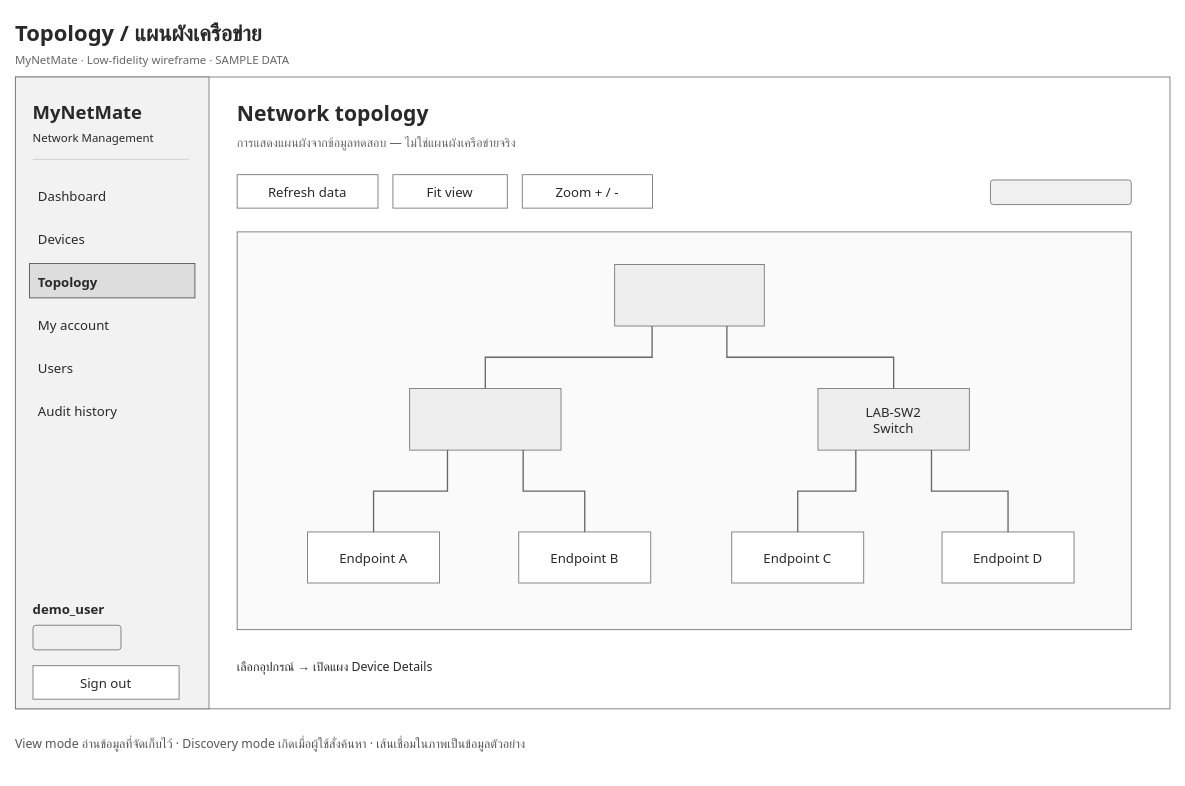
The diagram is 1185 pixels wide and 786 high, and some of its shapes have lost their labels. Each missing label, with the centre of its shape:
Admin: (76,637)
LAB-R1 Router: (689,295)
LAB-SW1 Switch: (485,419)
View mode: (1060,192)
